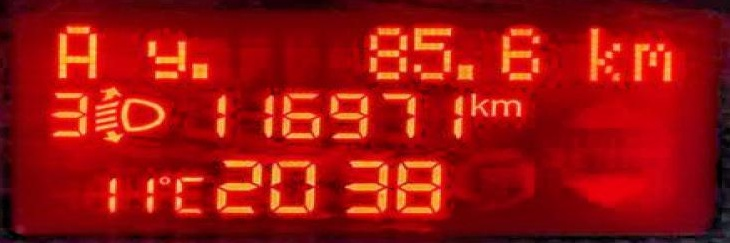-: (185, 60, 210, 81), (456, 60, 476, 83)
0: (264, 156, 319, 215)
1: (205, 87, 236, 140), (442, 92, 467, 142), (95, 173, 125, 214), (253, 89, 277, 139), (135, 174, 153, 214)
2: (210, 154, 258, 215)
3: (337, 155, 387, 215), (43, 85, 90, 140)
5: (409, 23, 456, 83)
6: (496, 23, 544, 84), (279, 87, 321, 140)
7: (376, 88, 421, 139)
8: (391, 156, 446, 215), (362, 24, 409, 81)
9: (324, 88, 369, 142)
X: (53, 23, 100, 80), (581, 23, 623, 84), (626, 39, 679, 83), (138, 35, 187, 80), (172, 172, 203, 215), (489, 97, 521, 117), (466, 88, 487, 117)
